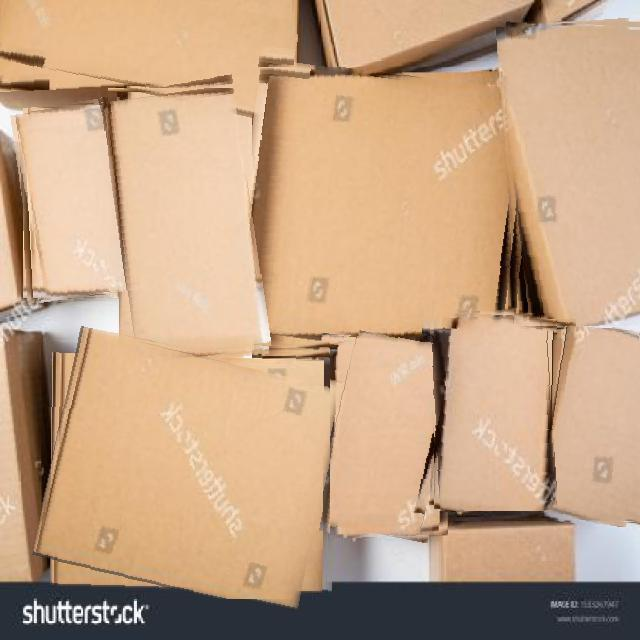BoxFace: (233, 67, 524, 358), (43, 339, 334, 599), (501, 19, 640, 326), (108, 88, 261, 361), (0, 0, 295, 107), (330, 336, 456, 539), (434, 312, 557, 511), (17, 105, 128, 301), (544, 326, 640, 524)
